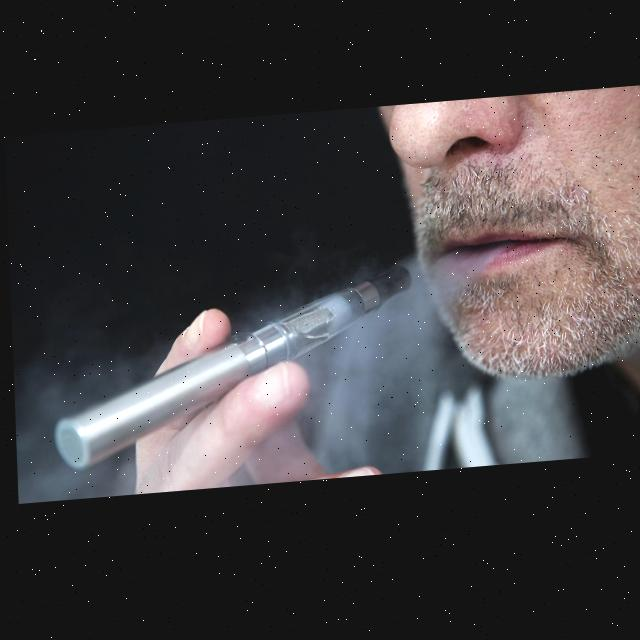vape: (46, 267, 415, 475)
